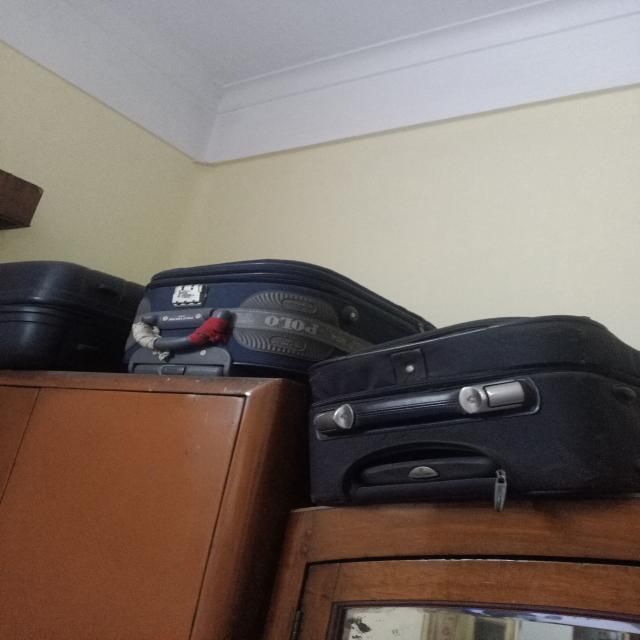suitcaserotation: (300, 312, 640, 509), (115, 253, 441, 379), (0, 255, 150, 374)
